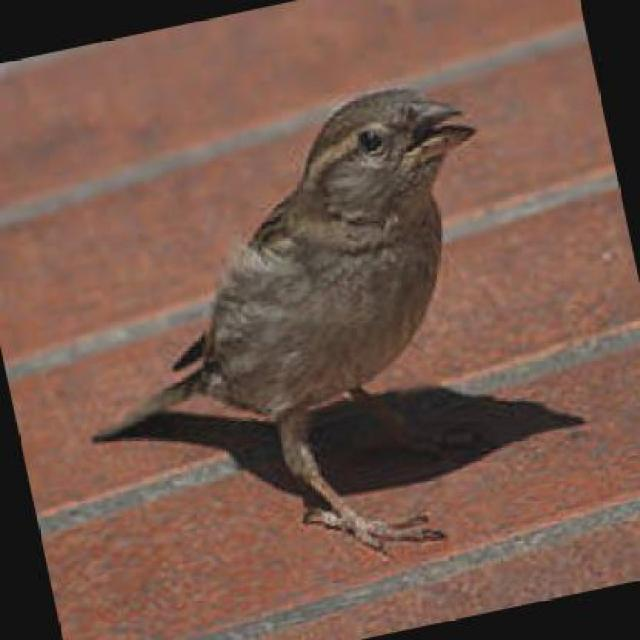Bird: (86, 75, 483, 563)
